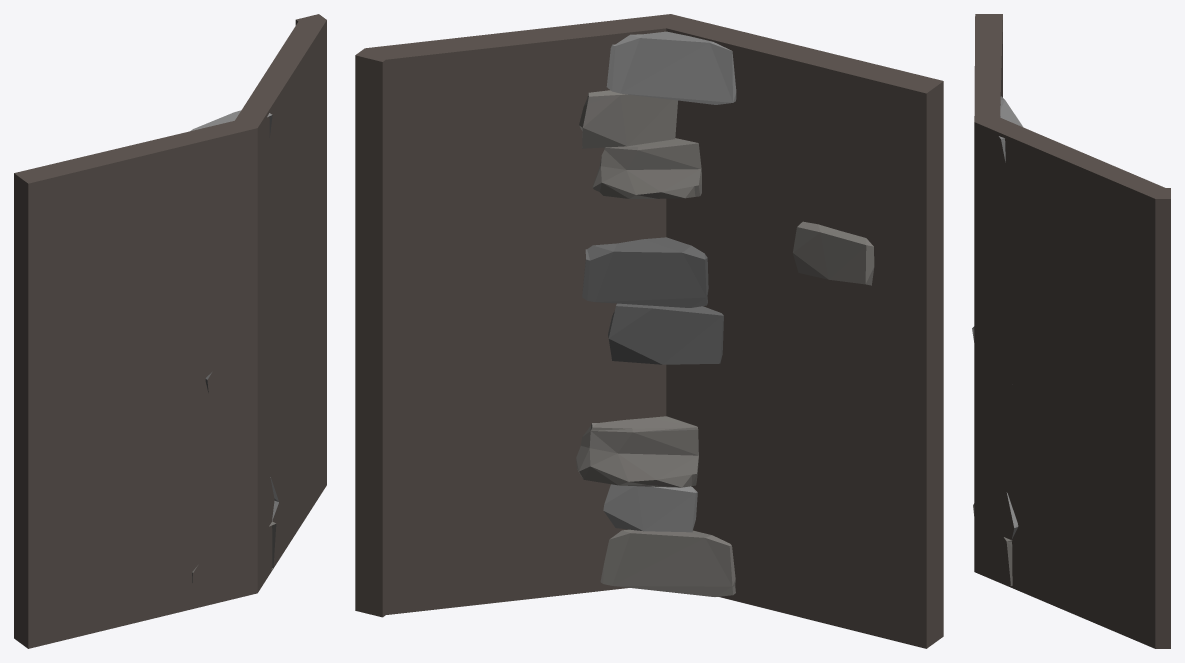
The model's file is MCastle_OctWall_Int_11.FBX.
3 renders of one model, left to right at view 1: azimuth 30°, elevation 25°; view 2: azimuth 150°, elevation 25°; view 3: azimuth 270°, elevation 25°, orthographic. The views are drawn at different scales.
Parts seen in each view (by area): view 1: MCastle_OctWall_Int_11_LOD0; view 2: MCastle_OctWall_Int_11_LOD0; view 3: MCastle_OctWall_Int_11_LOD0.
Boxes of the visible parts, box(x1,y1,x2,y2) form: MCastle_OctWall_Int_11_LOD0: box(14, 14, 326, 648); MCastle_OctWall_Int_11_LOD0: box(355, 14, 943, 648); MCastle_OctWall_Int_11_LOD0: box(972, 14, 1170, 648).
Size of what is drawn, in the model's own units: 155 by 176 by 70.39.
